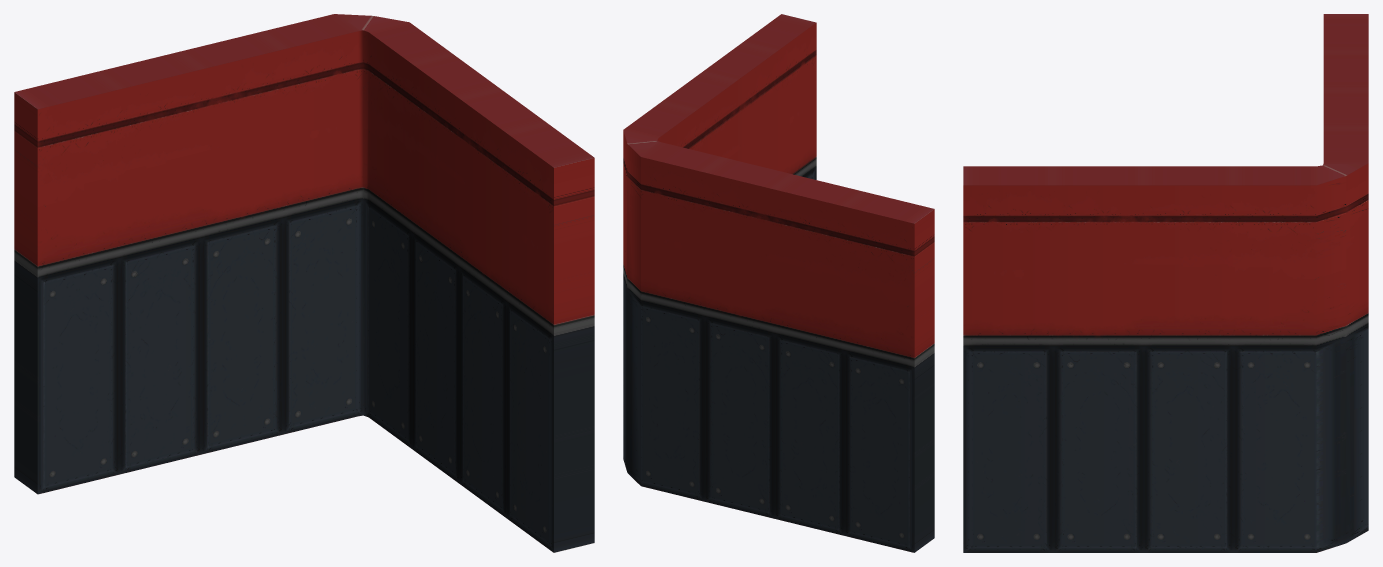
File: elevatorWall01.dae
3 views of the same model, side by side, from view 1: azimuth 30°, elevation 25°; view 2: azimuth 150°, elevation 25°; view 3: azimuth 270°, elevation 25° (orthographic). The views are drawn at different scales.
Parts seen in each view (by area): view 1: polySurface9; view 2: polySurface9; view 3: polySurface9.
Boxes of the visible parts, x1,y1,x2,y2 form: polySurface9: (14, 14, 594, 552); polySurface9: (623, 14, 934, 552); polySurface9: (963, 14, 1368, 552).
Size of the model in its own units: 4.5 by 4.5 by 4.5.
Materials: 1 (1 with a texture image).
